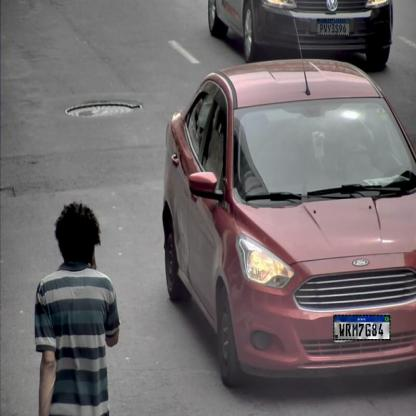PlacaM: (334, 315, 390, 340), (317, 19, 350, 35)
